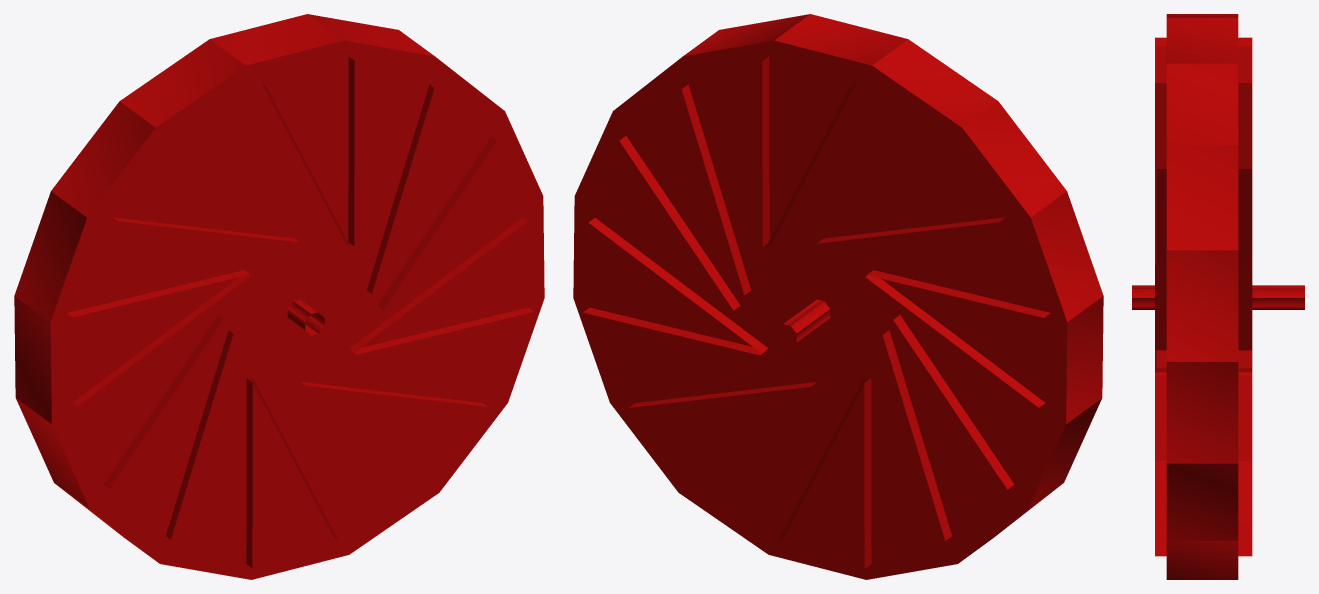
File: wheel_big.glb
3 views of the same model, side by side, from view 1: azimuth 30°, elevation 25°; view 2: azimuth 150°, elevation 25°; view 3: azimuth 270°, elevation 25° (orthographic).
Visible parts, largest first — view 1: MODEL_wheel_big; view 2: MODEL_wheel_big; view 3: MODEL_wheel_big.
Boxes of the visible parts, x1,y1,x2,y2 form: MODEL_wheel_big: (14, 14, 544, 579); MODEL_wheel_big: (573, 14, 1103, 579); MODEL_wheel_big: (1132, 14, 1304, 579).
Size of the model in its own units: 3.25 by 3.25 by 0.9961.
